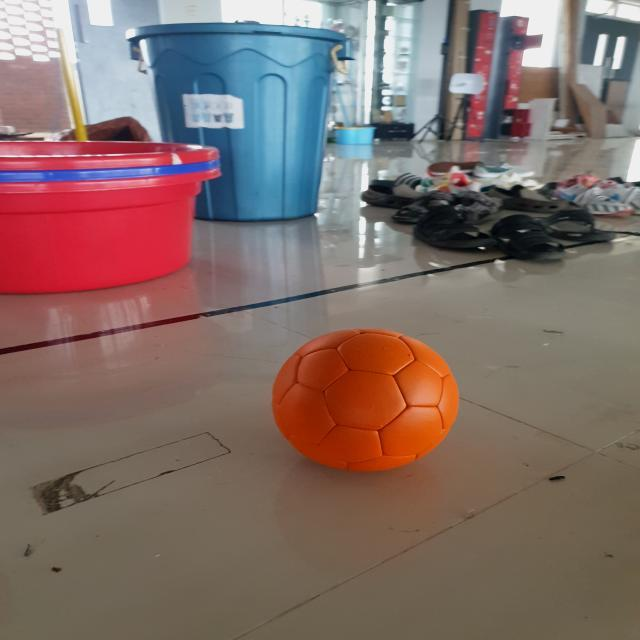bola: (268, 322, 464, 478)
